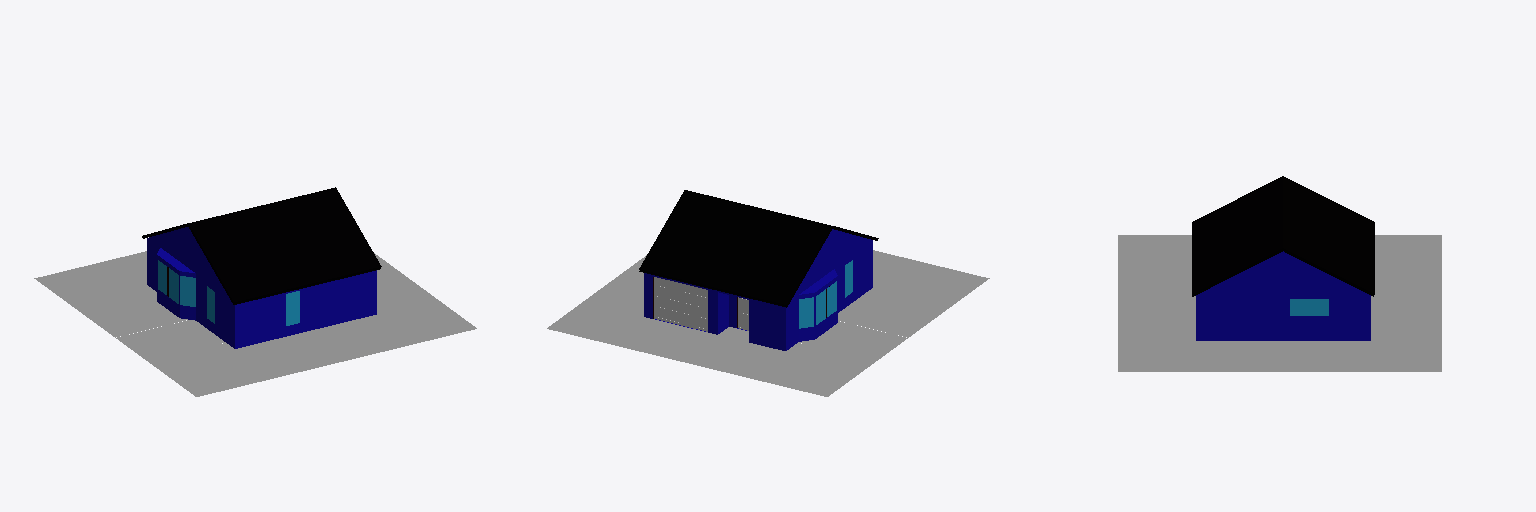
Rendered from CottagePlan2.obj.
3 renders of one model, left to right at view 1: azimuth 30°, elevation 25°; view 2: azimuth 150°, elevation 25°; view 3: azimuth 270°, elevation 25°, orthographic.
Visible parts, largest first — view 1: Plane.002, Cube, Plane; view 2: Plane.003, Cube, Cube.009, Plane; view 3: Cube, Plane.002, Plane.003, Plane.001, Plane.225_Plane.226.
Part boxes in pixels (left/top/right/bottom): Plane.002: left=188, top=187, right=380, bottom=301; Cube: left=147, top=238, right=376, bottom=348; Plane: left=148, top=227, right=228, bottom=296; Plane.003: left=640, top=190, right=831, bottom=304; Cube: left=644, top=241, right=872, bottom=350; Cube.009: left=654, top=277, right=707, bottom=331; Plane: left=792, top=229, right=872, bottom=299; Cube: left=1196, top=294, right=1370, bottom=340; Plane.002: left=1192, top=177, right=1282, bottom=293; Plane.003: left=1283, top=176, right=1373, bottom=292; Plane.001: left=1200, top=251, right=1366, bottom=293; Plane.225_Plane.226: left=1290, top=299, right=1328, bottom=315.
Bounding box in the file's own units: 50 × 16.19 × 50.